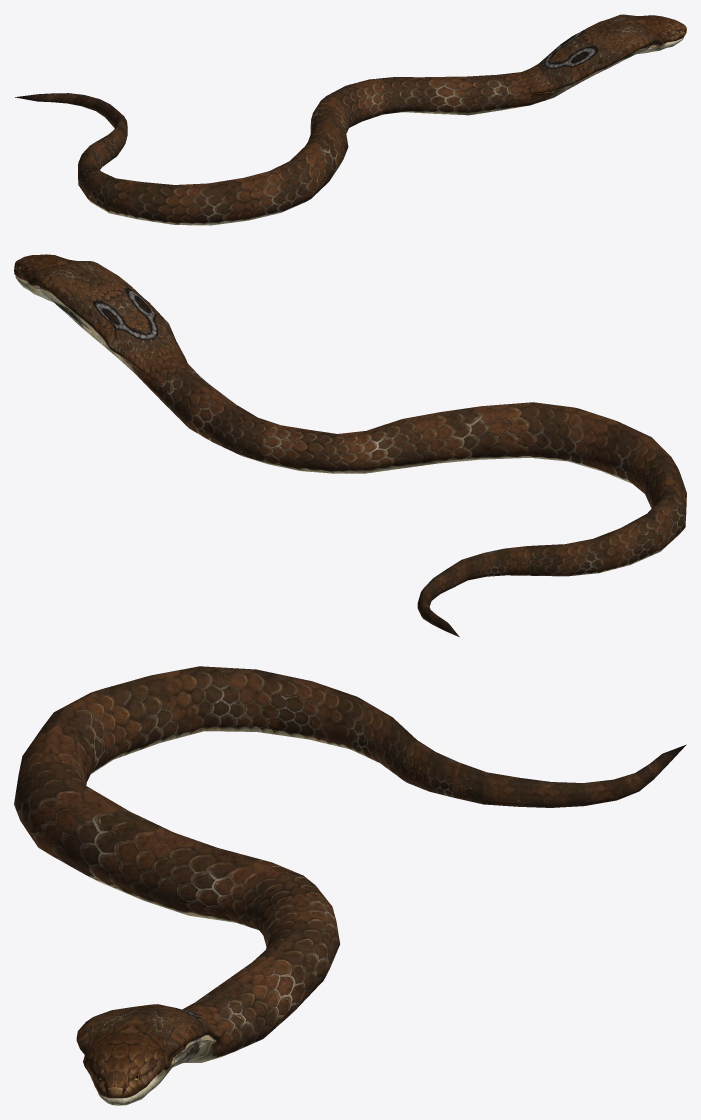
File: Snake.fbx
3 renders of one model, top to bottom at view 1: azimuth 30°, elevation 25°; view 2: azimuth 150°, elevation 25°; view 3: azimuth 270°, elevation 25°, orthographic. The views are drawn at different scales.
Visible parts, largest first — view 1: Mesh_1.001; view 2: Mesh_1.001; view 3: Mesh_1.001.
Boxes of the visible parts, box(x1,y1,x2,y2) form: Mesh_1.001: box(15, 14, 686, 225); Mesh_1.001: box(14, 254, 686, 637); Mesh_1.001: box(14, 666, 686, 1105).
Bounding box in the file's own units: 9963 × 1445 × 5710.
Materials: 1 (1 with a texture image).
